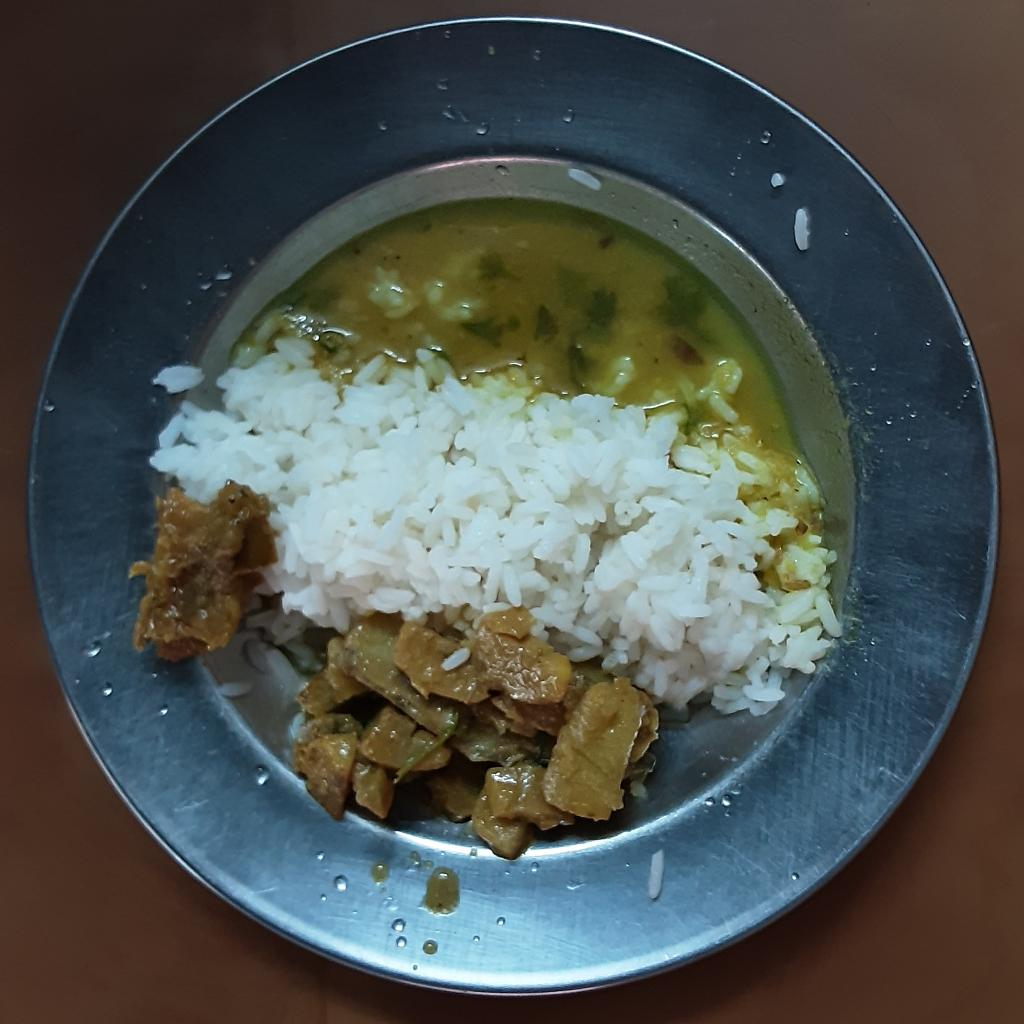achar: (129, 475, 281, 657)
banana: (290, 611, 660, 860)
daal: (266, 193, 811, 473)
rice: (142, 313, 844, 721), (446, 640, 476, 675)
